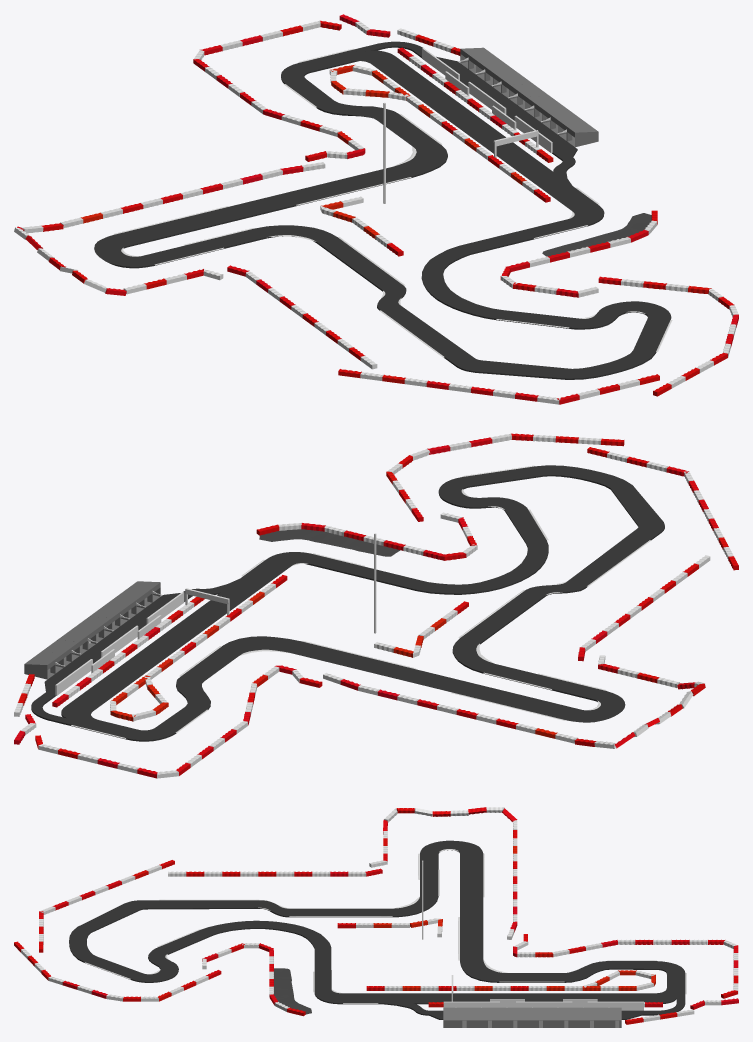
File: Taas+circuit.fbx
3 views of the same model, one above another, from view 1: azimuth 30°, elevation 25°; view 2: azimuth 150°, elevation 25°; view 3: azimuth 270°, elevation 25° (orthographic). The views are drawn at different scales.
Visible parts, largest first — view 1: track, Pitlane, Grass.001, Pit 7; view 2: track, Pitlane, Grass.001, Pit 1; view 3: track, Pitlane, Grass.001, Pit 2, Pit 4, Pit 6, Pit 1, Pit 3, Pit 5, Pit 7, Cube.116, Cube.115 (+1 smaller).
Boxes of the visible parts, bbox=[...] form: track: bbox=[94, 50, 671, 379]; Pitlane: bbox=[344, 41, 577, 185]; Grass.001: bbox=[542, 213, 651, 256]; Pit 7: bbox=[558, 119, 598, 147]; track: bbox=[61, 465, 664, 741]; Pitlane: bbox=[31, 579, 238, 728]; Grass.001: bbox=[259, 529, 400, 556]; Pit 1: bbox=[24, 652, 63, 679]; track: bbox=[69, 840, 685, 1004]; Pitlane: bbox=[382, 990, 685, 1019]; Grass.001: bbox=[274, 968, 311, 1014]; Pit 2: bbox=[570, 1007, 596, 1027]; Pit 4: bbox=[519, 1007, 545, 1027]; Pit 6: bbox=[468, 1007, 494, 1027]; Pit 1: bbox=[596, 1007, 621, 1027]; Pit 3: bbox=[545, 1007, 570, 1027]; Pit 5: bbox=[494, 1007, 519, 1027]; Pit 7: bbox=[443, 1007, 468, 1027]; Cube.116: bbox=[587, 1001, 643, 1010]; Cube.115: bbox=[516, 1001, 572, 1007].
Size of the model in its own units: 17131 by 3146 by 25309.
